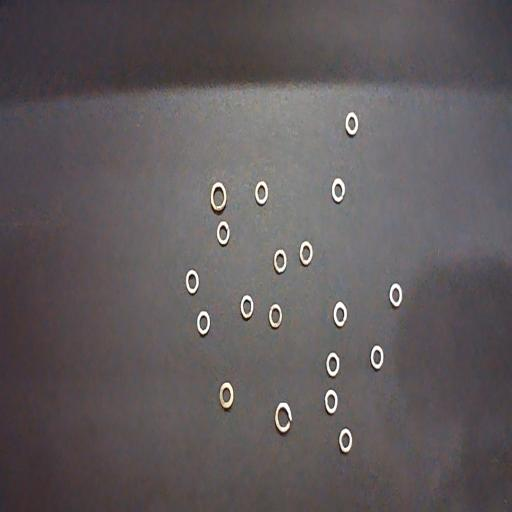washer: (275, 402, 292, 433), (211, 181, 226, 211), (220, 382, 234, 407), (186, 269, 199, 295), (255, 180, 268, 206), (326, 352, 340, 376), (240, 294, 254, 318), (274, 250, 287, 274), (345, 112, 358, 136), (217, 221, 230, 245), (197, 310, 210, 334), (332, 178, 345, 202), (334, 301, 346, 326), (390, 283, 402, 308), (325, 390, 337, 414), (371, 345, 383, 369), (340, 428, 352, 452), (300, 241, 312, 265), (269, 305, 281, 327)
